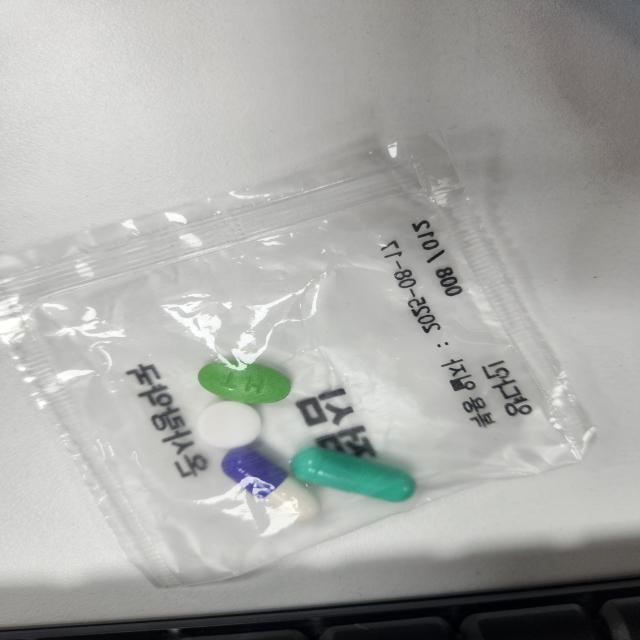러키펜정: (195, 401, 263, 456)
씨엠지세파클러캡슐: (221, 447, 319, 520)
에르도캡슐: (289, 448, 419, 505)
휴티렌정: (197, 358, 295, 405)
